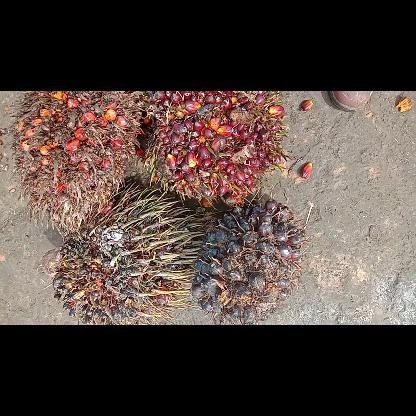TBS abnormal: (38, 180, 192, 324)
TBS masak: (144, 91, 286, 204)
TBS mentah: (193, 198, 302, 324)
Terlalu masak: (11, 91, 141, 235)
